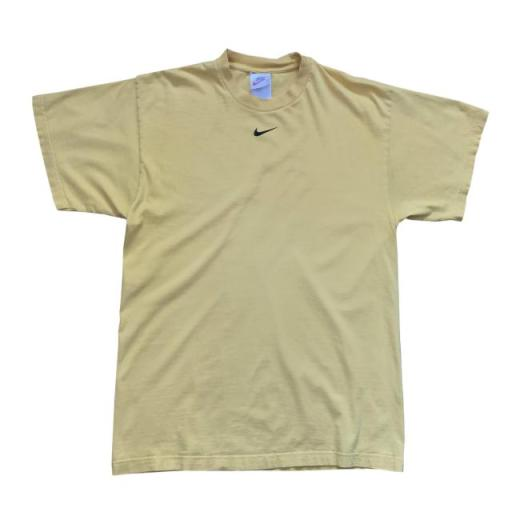Nike: (252, 126, 280, 137)
